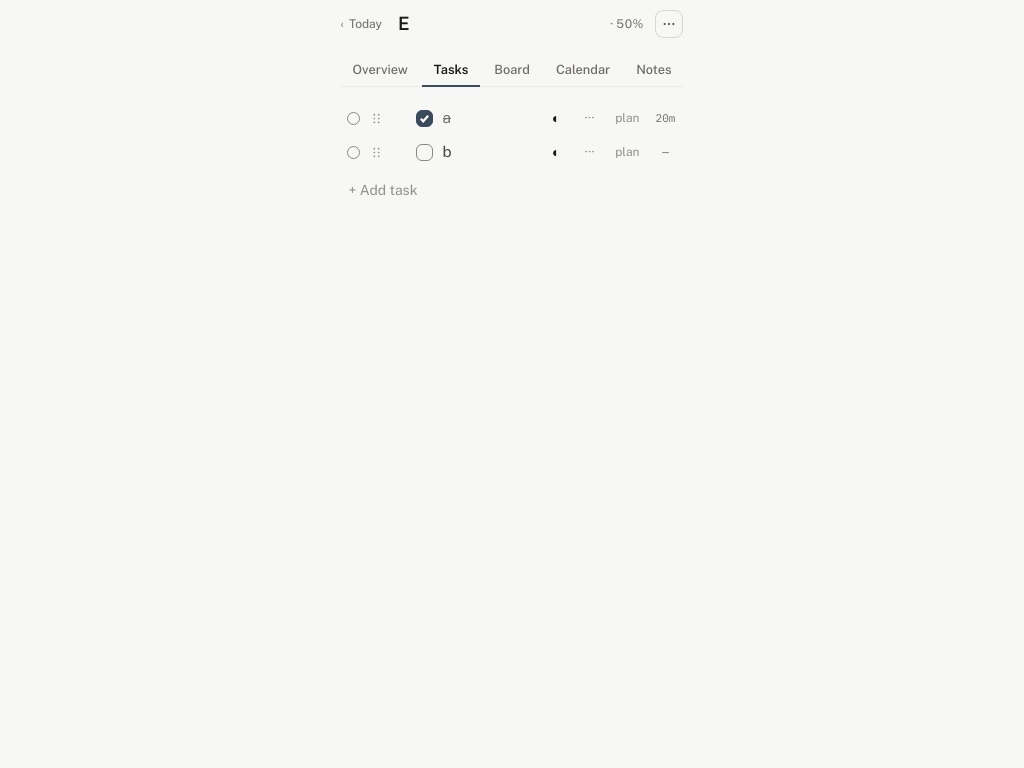
Test: disclosing how the percentage was computed › shows a bare step count when the roll-up fell back to equal weight
Step 1. Click the button named "Goal status and dates" → [627, 24], box [602,10,652,38]
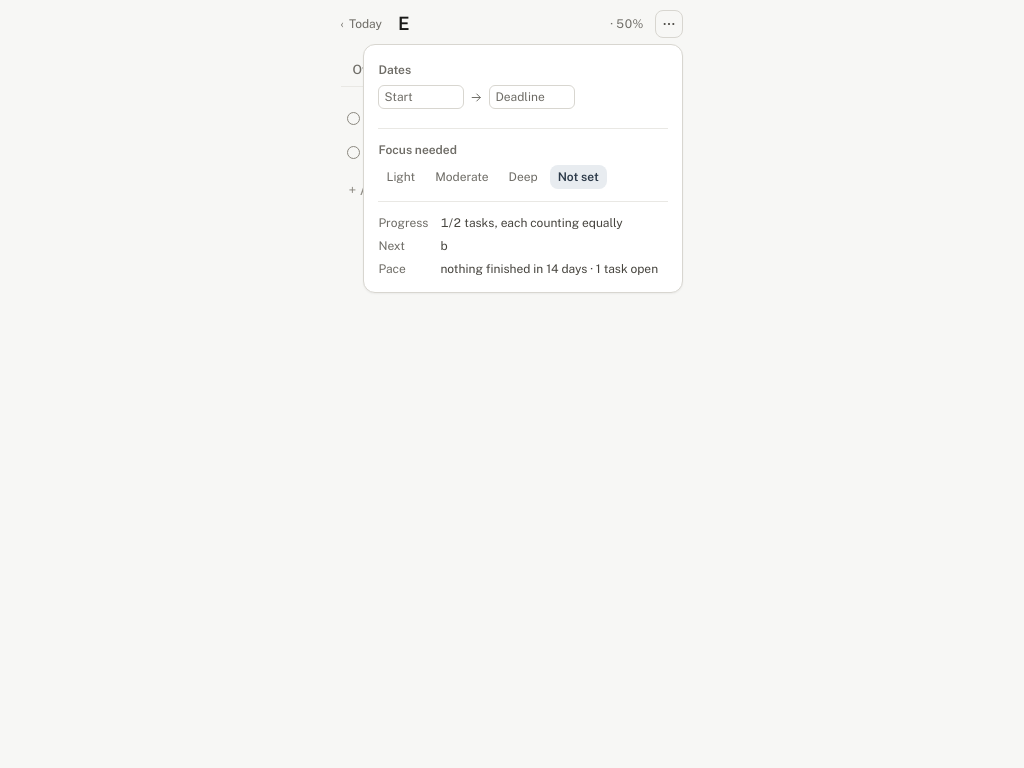
Now the text "1/2 tasks, each counting equally" is shown, box [440,216,623,230]
